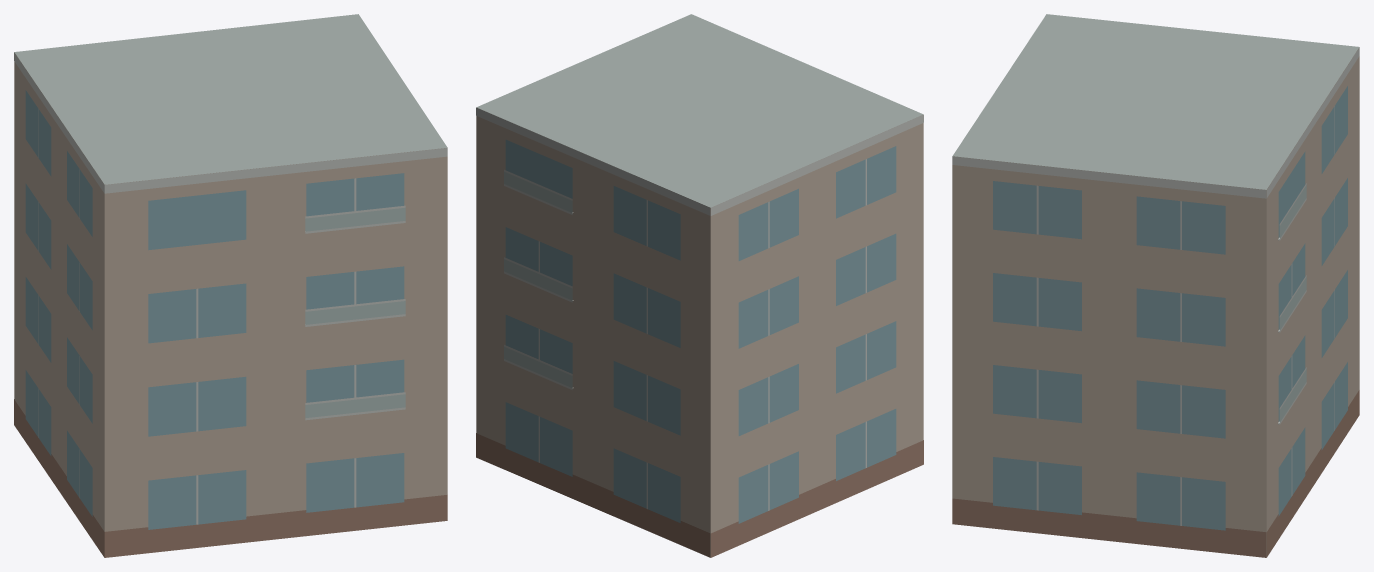
The model's file is survey-upis-32799755.glb.
3 renders of one model, left to right at view 1: azimuth 30°, elevation 25°; view 2: azimuth 150°, elevation 25°; view 3: azimuth 270°, elevation 25°, orthographic. The views are drawn at different scales.
Parts seen in each view (by area): view 1: survey-upis-32799755.tmp; view 2: survey-upis-32799755.tmp; view 3: survey-upis-32799755.tmp.
Part boxes in pixels (x1,y1,x2,y2): survey-upis-32799755.tmp: (14, 14, 447, 557); survey-upis-32799755.tmp: (476, 14, 923, 557); survey-upis-32799755.tmp: (952, 14, 1359, 557).
Bounding box in the file's own units: 10.52 × 10.25 × 10.29.
